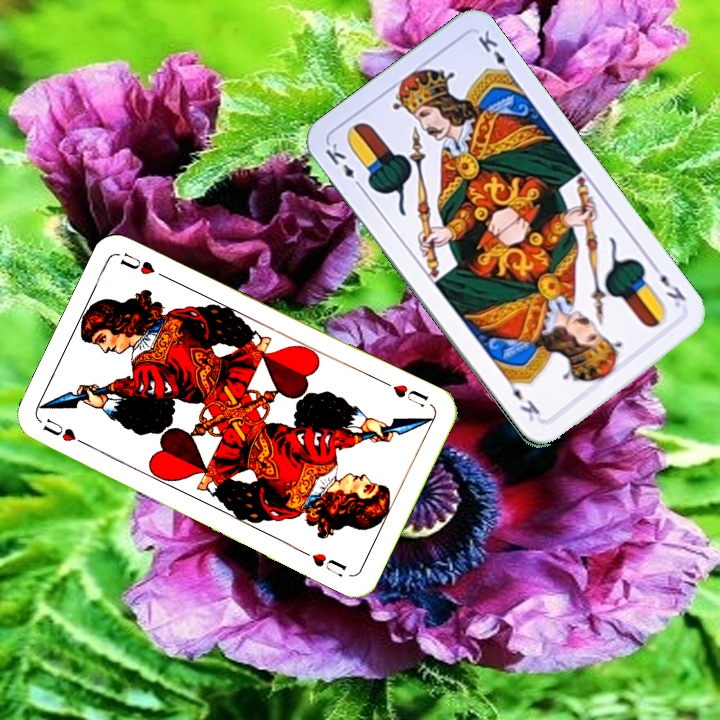EK: (321, 138, 366, 192), (648, 261, 689, 310)
HU: (38, 414, 93, 450), (379, 377, 431, 410)
